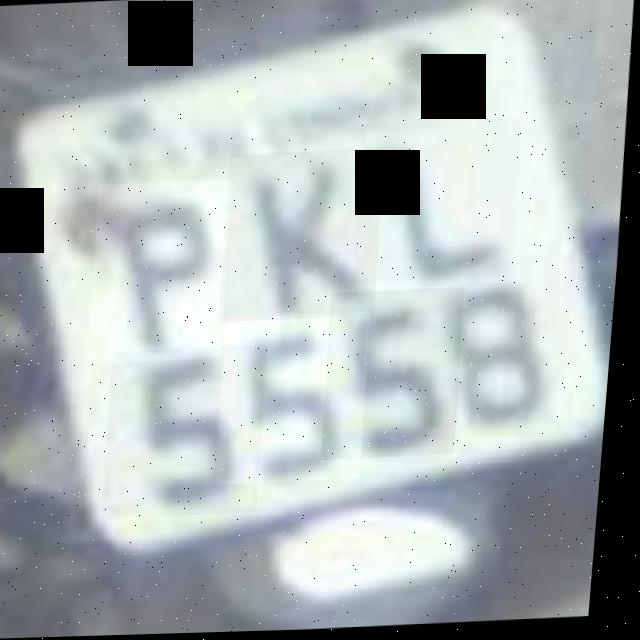5: (107, 346, 276, 520), (220, 313, 378, 487), (325, 290, 472, 462)
8: (426, 258, 581, 443)
J: (354, 120, 527, 286)
K: (221, 149, 390, 324)
P: (90, 180, 238, 365)
